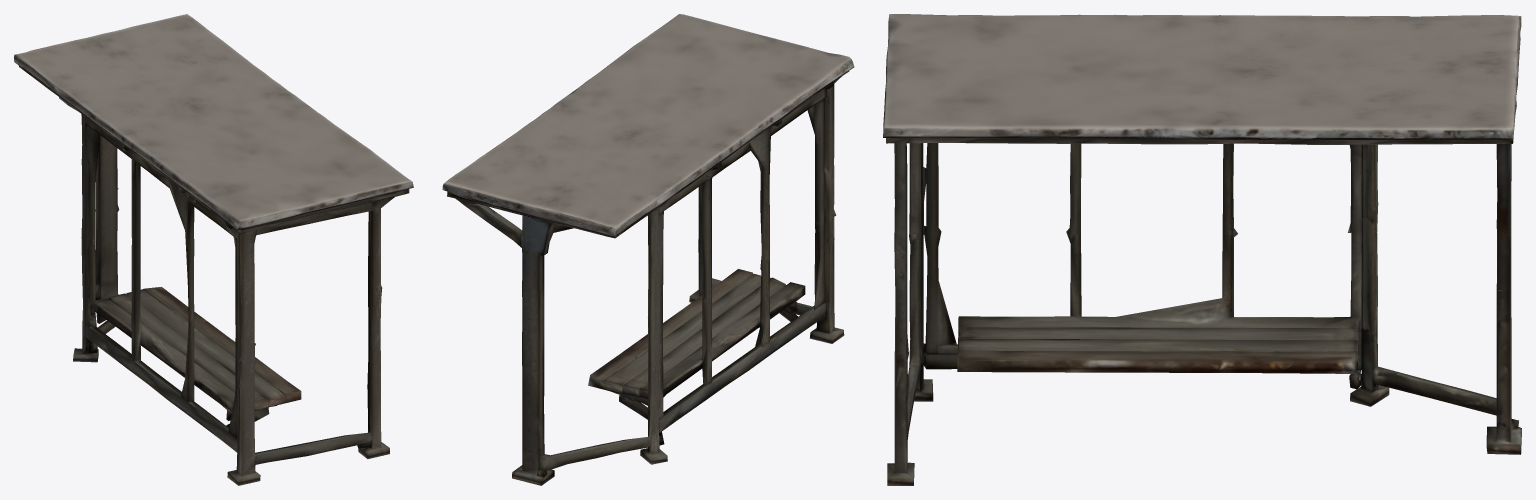
The picture shows the model from 3 angles, left to right: view 1: azimuth 30°, elevation 25°; view 2: azimuth 150°, elevation 25°; view 3: azimuth 270°, elevation 25°; orthographic projection. The views are drawn at different scales.
Parts seen in each view (by area): view 1: tripo_node_773de129-2787-401b-9bb7-0322291ca8d0; view 2: tripo_node_773de129-2787-401b-9bb7-0322291ca8d0; view 3: tripo_node_773de129-2787-401b-9bb7-0322291ca8d0.
Part boxes in pixels (box(x1,y1,x2,y2)): tripo_node_773de129-2787-401b-9bb7-0322291ca8d0: box(14, 14, 413, 485); tripo_node_773de129-2787-401b-9bb7-0322291ca8d0: box(442, 14, 854, 485); tripo_node_773de129-2787-401b-9bb7-0322291ca8d0: box(883, 14, 1521, 485).
Size of the model in its own units: 0.4426 by 0.6451 by 1.
1 material, 1 textured.
